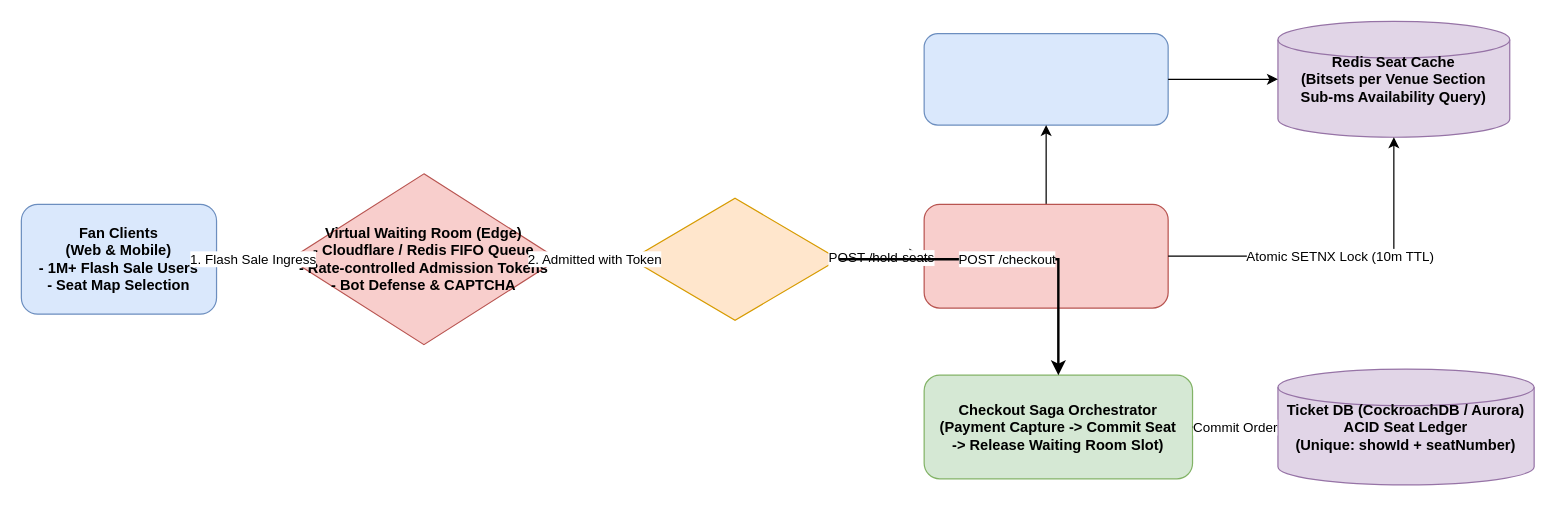
The diagram is 1556 pixels wide and 506 high, and some of its shapes have lost their labels. The shapes that lost their labels are listed below. From the top down, each one's centre as x and y in pixels, then its label:
[1045,78]: Seat Map Service (Real-Time Venue Availability: Available, Held, Sold)
[734,258]: API Gateway (Validates Admission Token, TLS, Rate Limiting)
[1045,255]: Seat Reservation Service (10-Min Distributed Lease Lock Prevents Double-Selling)
